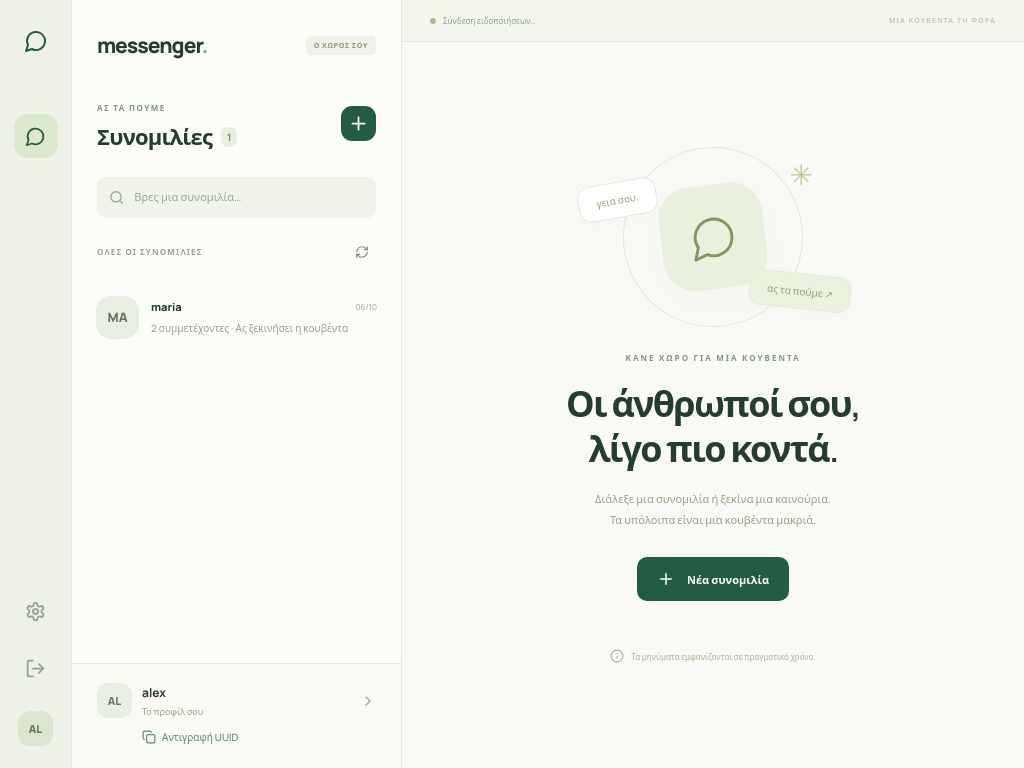
shows resolved usernames in the conversation, participants and incoming message labels
The width and height of the screenshot is (1024, 768).
What coordinates should you click on to do the following:
click the button "MA maria 06/10 2 συμμετέχοντες · Ας ξεκινήσει η κουβέντα"
I would click on:
 (118, 317)
Its box is left=82, top=278, right=391, bottom=356.
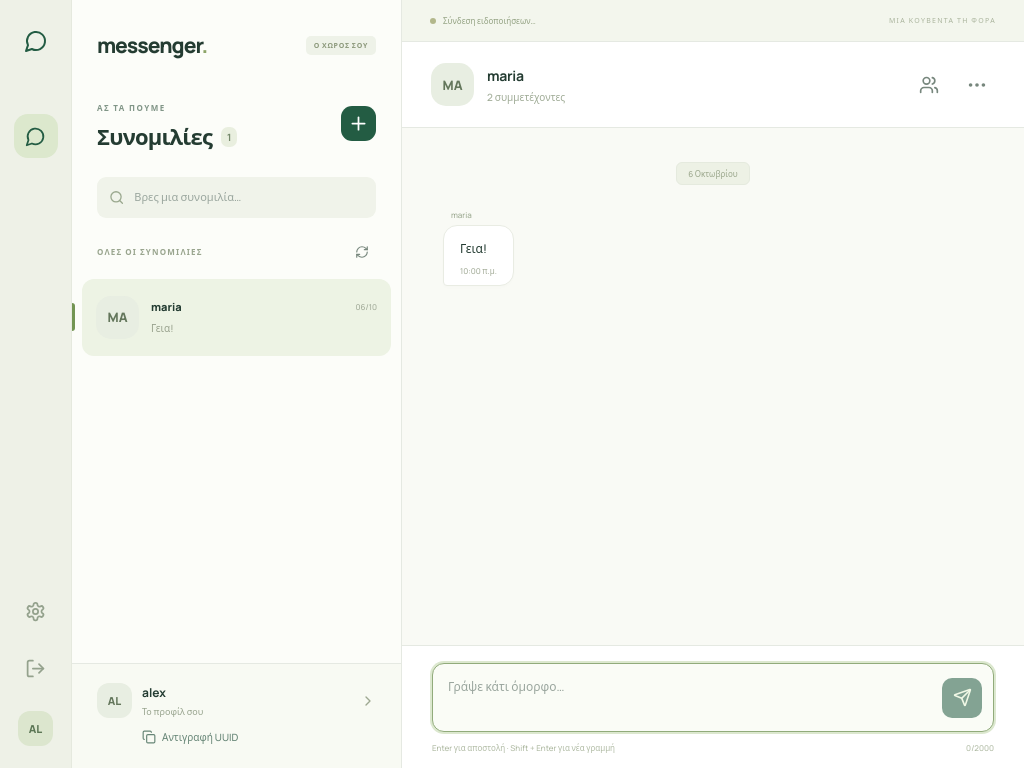
Check: the heading "maria" is shown, box left=487, top=66, right=524, bottom=84
Check: the 1st text "maria" is shown, box left=451, top=209, right=472, bottom=220
What coordinates should you click on to do the following:
click the button named "Συμμετέχοντες"
I would click on:
 (929, 84)
Its box is left=912, top=68, right=946, bottom=102.
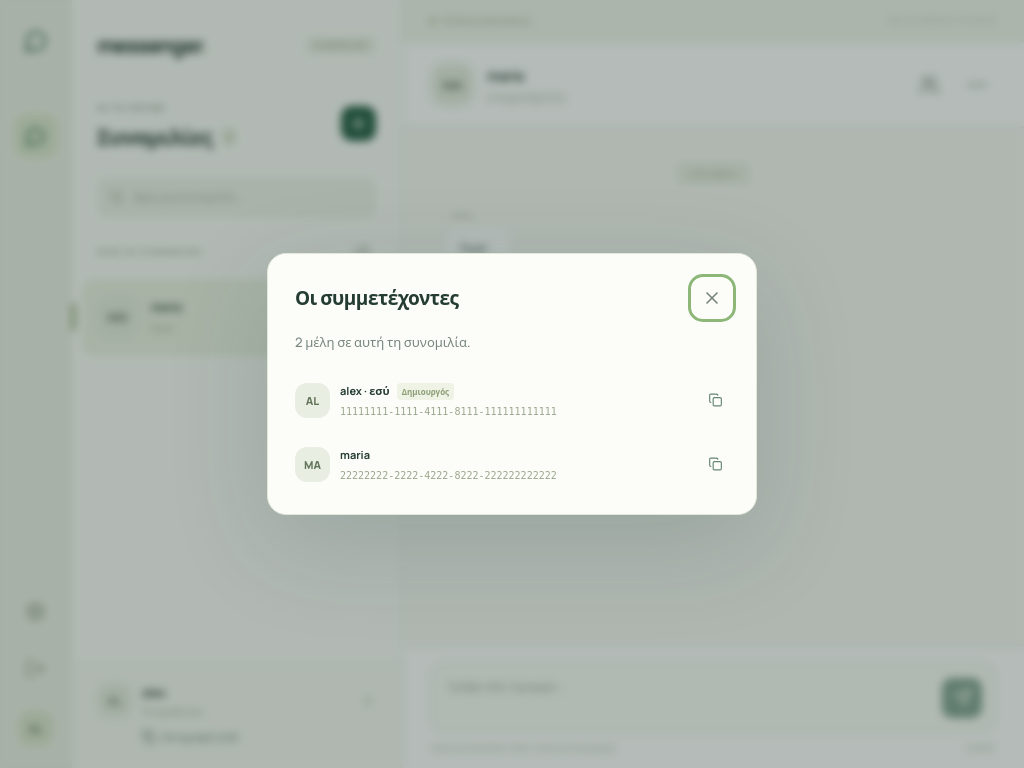
Check: the text "maria" is shown, box left=340, top=447, right=370, bottom=462
Check: the text "alex · εσύ" is shown, box left=340, top=383, right=390, bottom=398
